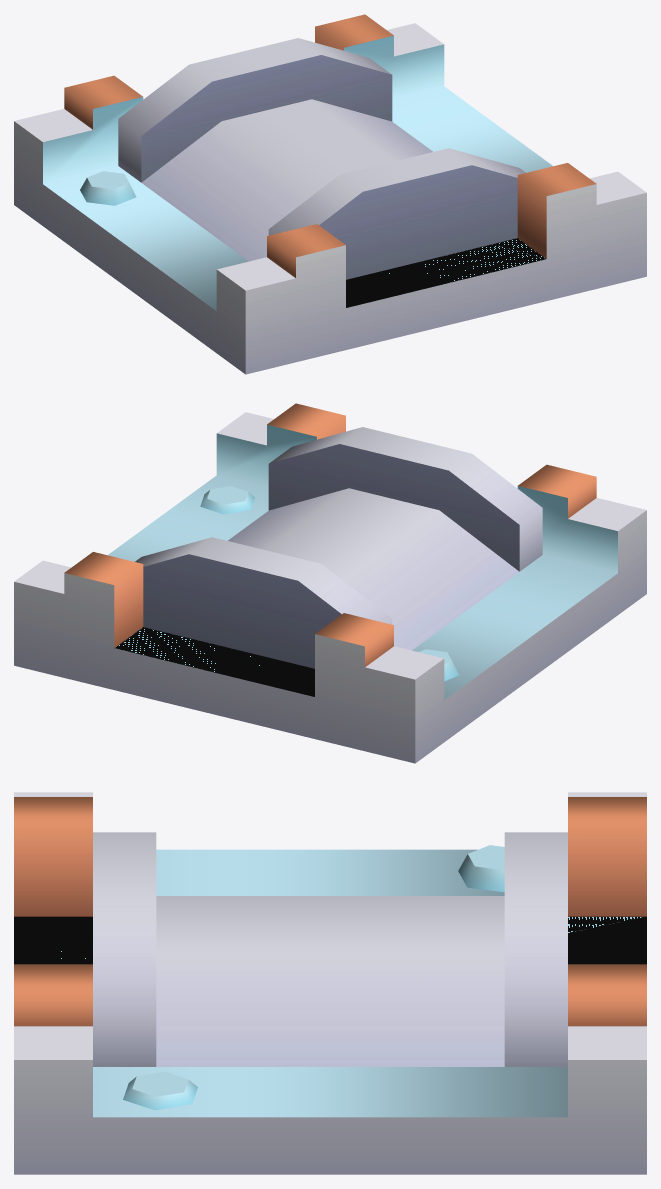
File: kenney-tower-defense-snow-tile-river-bridge.glb
3 renders of one model, top to bottom at view 1: azimuth 30°, elevation 25°; view 2: azimuth 150°, elevation 25°; view 3: azimuth 270°, elevation 25°, orthographic. The views are drawn at different scales.
Parts seen in each view (by area): view 1: snow-tile-river-bridge; view 2: snow-tile-river-bridge; view 3: snow-tile-river-bridge.
Boxes of the visible parts, bbox=[...] form: snow-tile-river-bridge: bbox=[14, 14, 646, 374]; snow-tile-river-bridge: bbox=[14, 403, 646, 763]; snow-tile-river-bridge: bbox=[14, 792, 646, 1174].
Bounding box in the file's own units: 1 × 0.3 × 1.
Materials: 1 (1 with a texture image).
